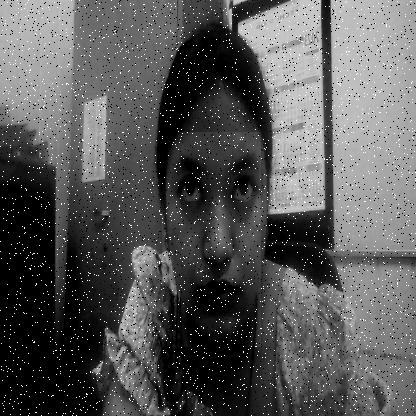Normal: (162, 132, 261, 347)
